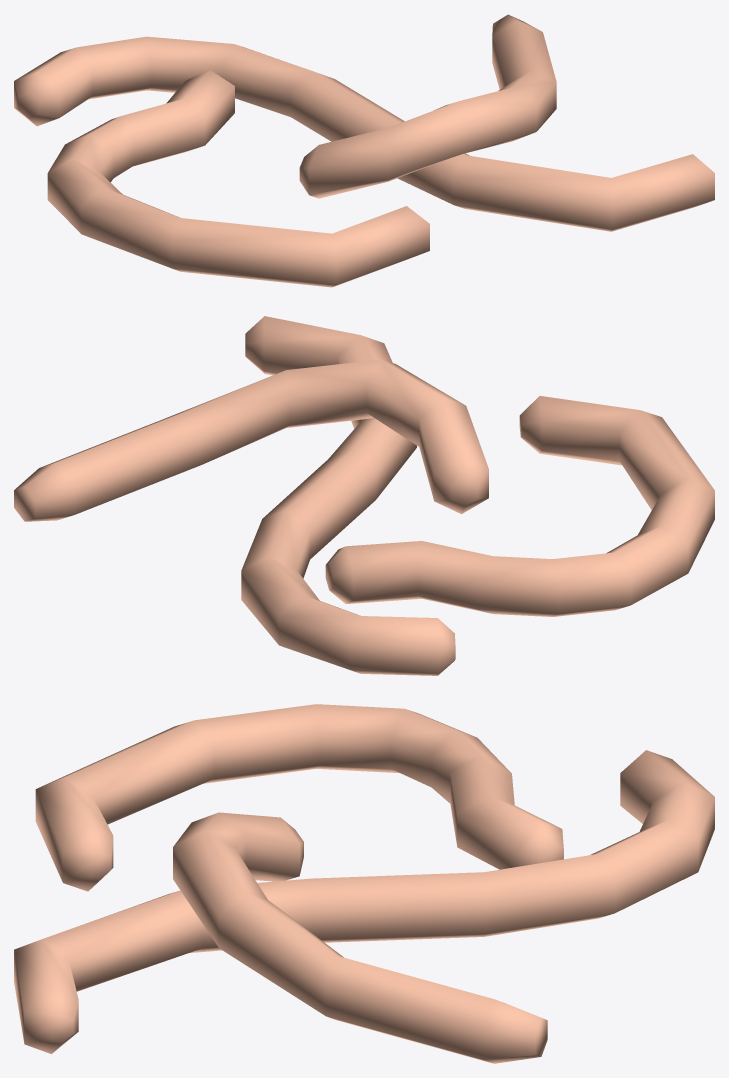
File: worms.glb
3 views of the same model, one above another, from view 1: azimuth 30°, elevation 25°; view 2: azimuth 150°, elevation 25°; view 3: azimuth 270°, elevation 25° (orthographic). The views are drawn at different scales.
Visible parts, largest first — view 1: worms; view 2: worms; view 3: worms.
Boxes of the visible parts, bbox=[...] form: worms: bbox=[14, 14, 714, 287]; worms: bbox=[14, 316, 714, 675]; worms: bbox=[14, 704, 714, 1063].
Size of the model in its own units: 0.2928 by 0.0552 by 0.2768.
